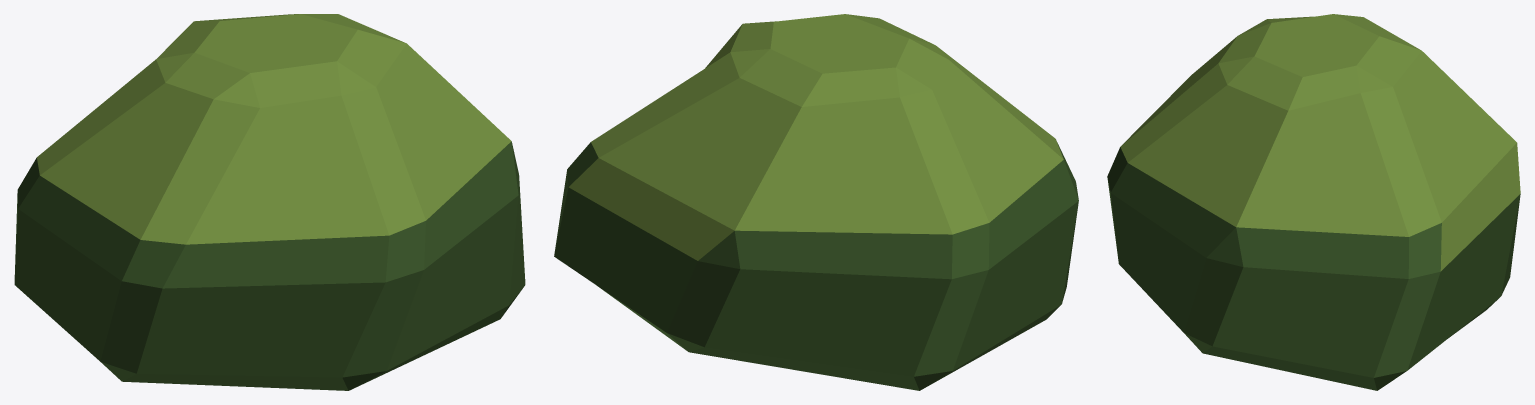
The model's file is gf_stone_mid_a.glb.
3 renders of one model, left to right at view 1: azimuth 30°, elevation 25°; view 2: azimuth 150°, elevation 25°; view 3: azimuth 270°, elevation 25°, orthographic. The views are drawn at different scales.
Parts seen in each view (by area): view 1: gf_stone_mid_a; view 2: gf_stone_mid_a; view 3: gf_stone_mid_a.
Boxes of the visible parts, left/top/right/bottom form: gf_stone_mid_a: left=14, top=14, right=525, bottom=390; gf_stone_mid_a: left=554, top=14, right=1078, bottom=390; gf_stone_mid_a: left=1107, top=14, right=1520, bottom=390.
Size of the model in its own units: 0.2146 by 0.118 by 0.1851.
